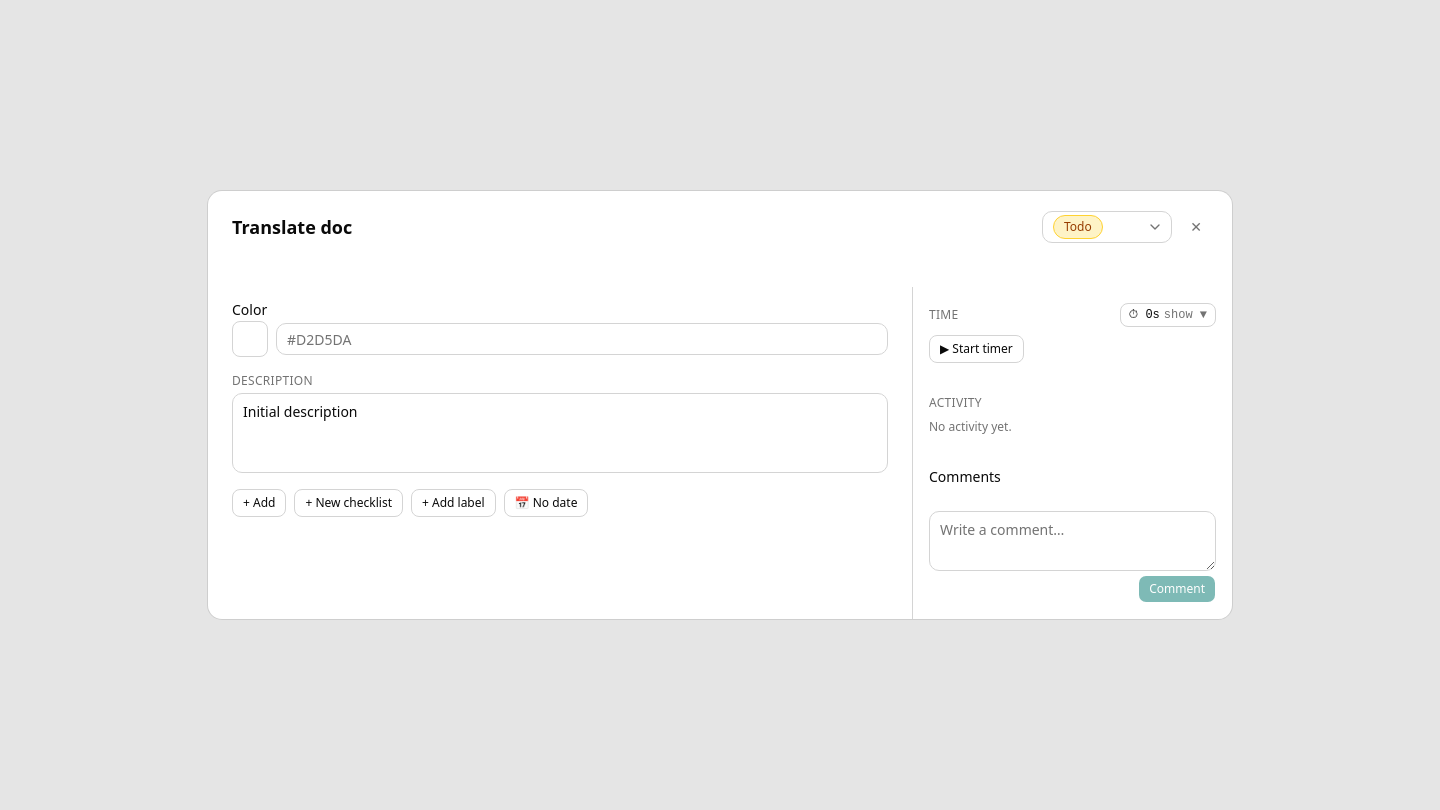
Test: TaskDetailModal › New checklist button opens the checklist section in adding mode
The width and height of the screenshot is (1440, 810).
Expected: the heading "Translate doc" is shown, [232,213,352,241]
Click the button "+ New checklist". click: coordinates (349, 503)
box: [294,489,403,517]
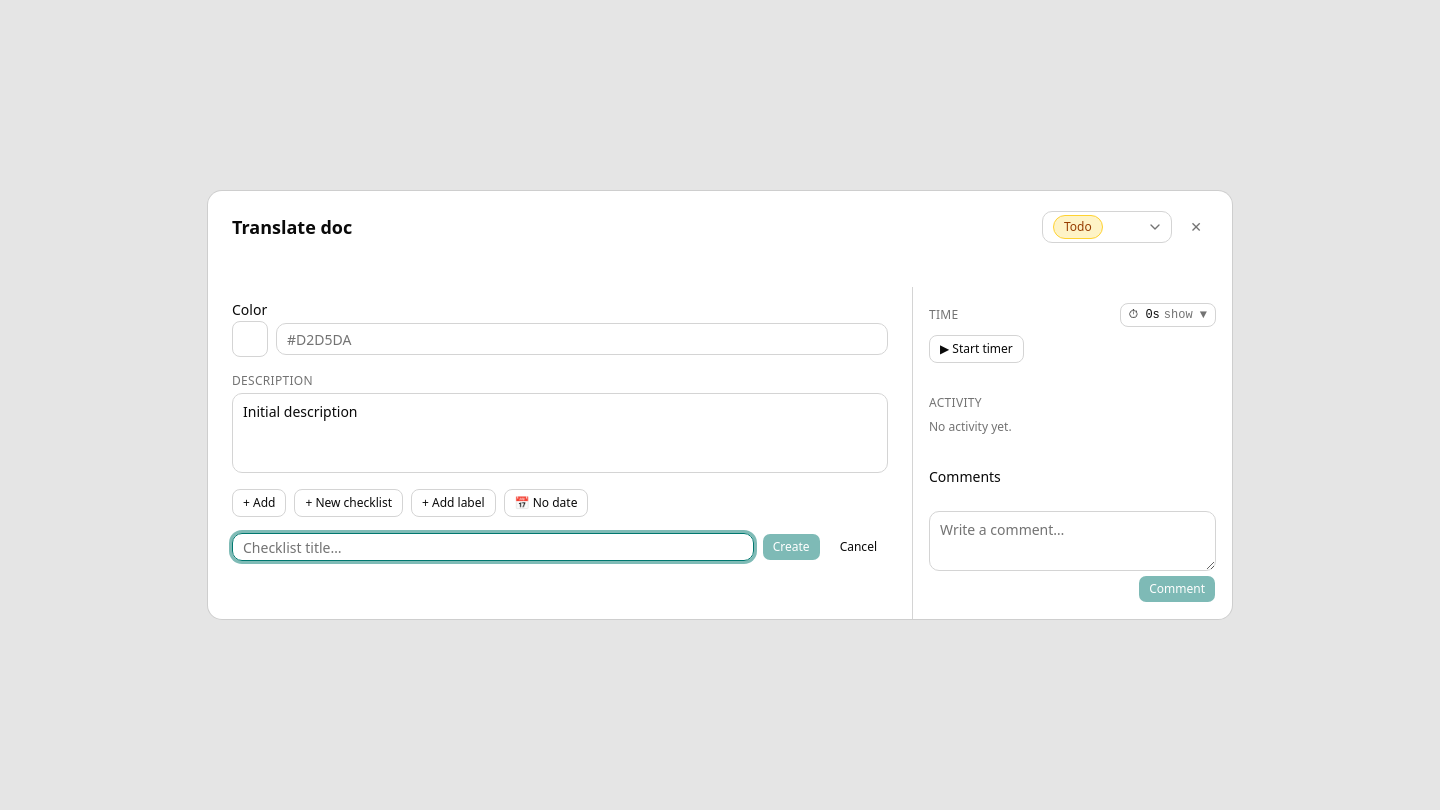
Result: the field with placeholder "Checklist title…" is shown at [232,533,754,561]
